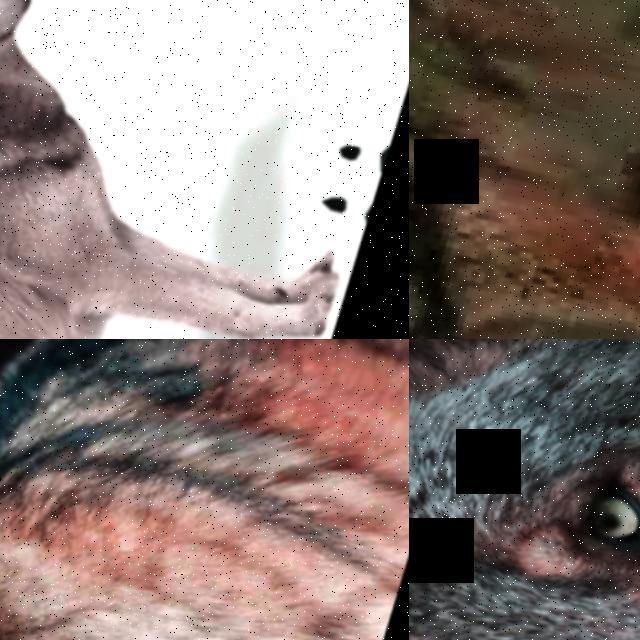wolf: (0, 0, 409, 339), (0, 339, 409, 640), (409, 0, 640, 339), (409, 339, 640, 640), (409, 0, 640, 193)
